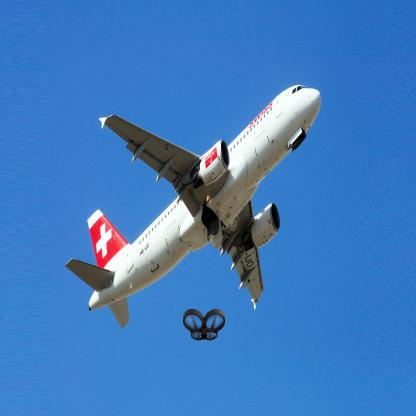CIV_Plane: (61, 79, 325, 331)
